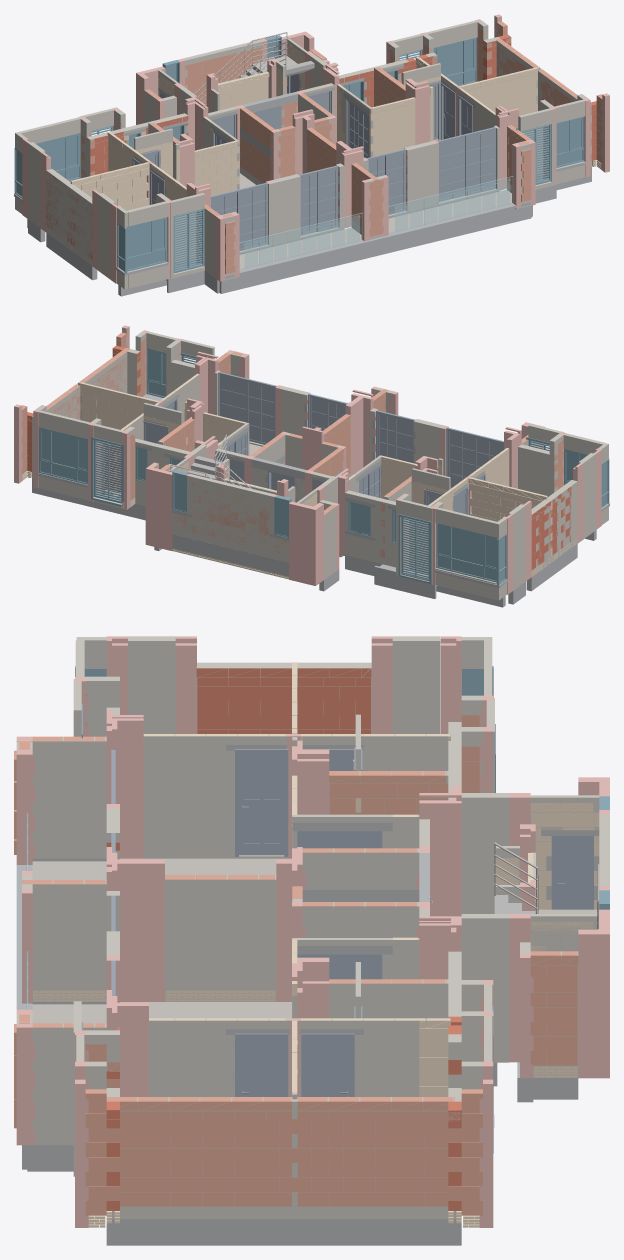
3 renders of one model, top to bottom at view 1: azimuth 30°, elevation 25°; view 2: azimuth 150°, elevation 25°; view 3: azimuth 270°, elevation 25°, orthographic. The views are drawn at different scales.
Visible parts, largest first — view 1: C_Q, C_Z.001, C_M, C_QC__T100, C_QC__T200, C_L, C_W, C_G, C_B, C_QC__T250, C_QT; view 2: C_Q, C_Z.001, C_W, C_M, C_QC__T100, C_QC__T200, C_L, C_QC__T250, C_QT; view 3: C_Q, C_Z.001, C_QC__T200, C_M, C_L, C_QC__T250, C_QC__T100, C_B, C_QT, C_W.
Part boxes in pixels (left/top/right/bottom): C_Q: left=15, top=20, right=591, bottom=289; C_Z.001: left=22, top=14, right=609, bottom=283; C_M: left=132, top=74, right=495, bottom=250; C_QC__T100: left=46, top=43, right=601, bottom=265; C_QC__T200: left=81, top=21, right=602, bottom=274; C_L: left=14, top=65, right=591, bottom=296; C_W: left=14, top=35, right=584, bottom=274; C_G: left=240, top=176, right=513, bottom=268; C_B: left=103, top=56, right=511, bottom=280; C_QC__T250: left=46, top=34, right=596, bottom=259; C_QT: left=126, top=32, right=407, bottom=197; C_Q: left=32, top=331, right=608, bottom=600; C_Z.001: left=14, top=325, right=601, bottom=594; C_W: left=38, top=348, right=609, bottom=585; C_M: left=144, top=372, right=503, bottom=514; C_QC__T100: left=22, top=373, right=577, bottom=579; C_QC__T200: left=21, top=332, right=563, bottom=566; C_L: left=32, top=394, right=609, bottom=607; C_QC__T250: left=27, top=345, right=577, bottom=570; C_QT: left=170, top=404, right=424, bottom=502; C_Q: left=16, top=636, right=609, bottom=1219; C_Z.001: left=16, top=636, right=609, bottom=1227; C_QC__T200: left=14, top=694, right=578, bottom=1215; C_M: left=111, top=747, right=593, bottom=1096; C_L: left=16, top=745, right=599, bottom=1245; C_QC__T250: left=106, top=668, right=461, bottom=1210; C_QC__T100: left=33, top=662, right=599, bottom=1227; C_B: left=32, top=858, right=599, bottom=1023; C_QT: left=231, top=759, right=599, bottom=1086; C_W: left=75, top=666, right=609, bottom=1153.
Size of the model in its own units: 20 by 4.5 by 11.25.
